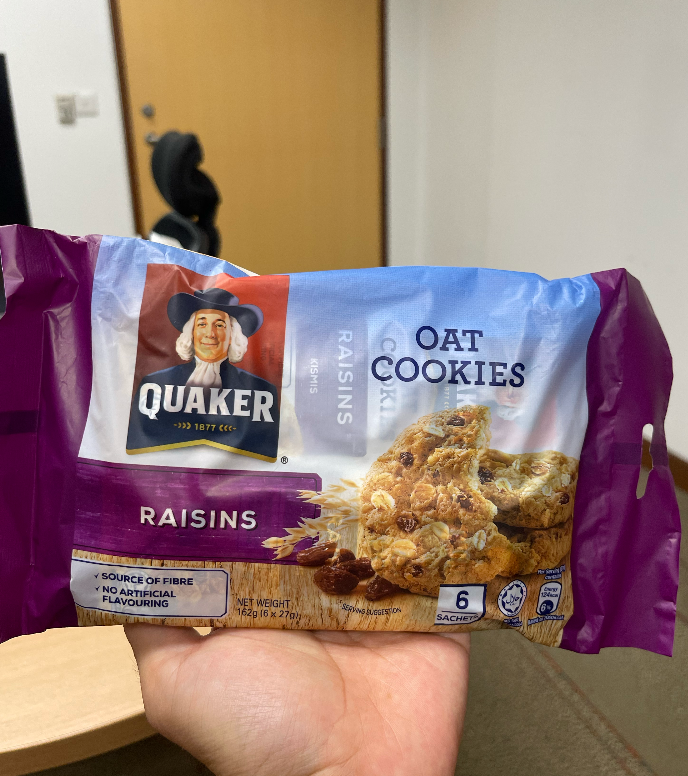cookies_100g-199g: (68, 287, 584, 631)
